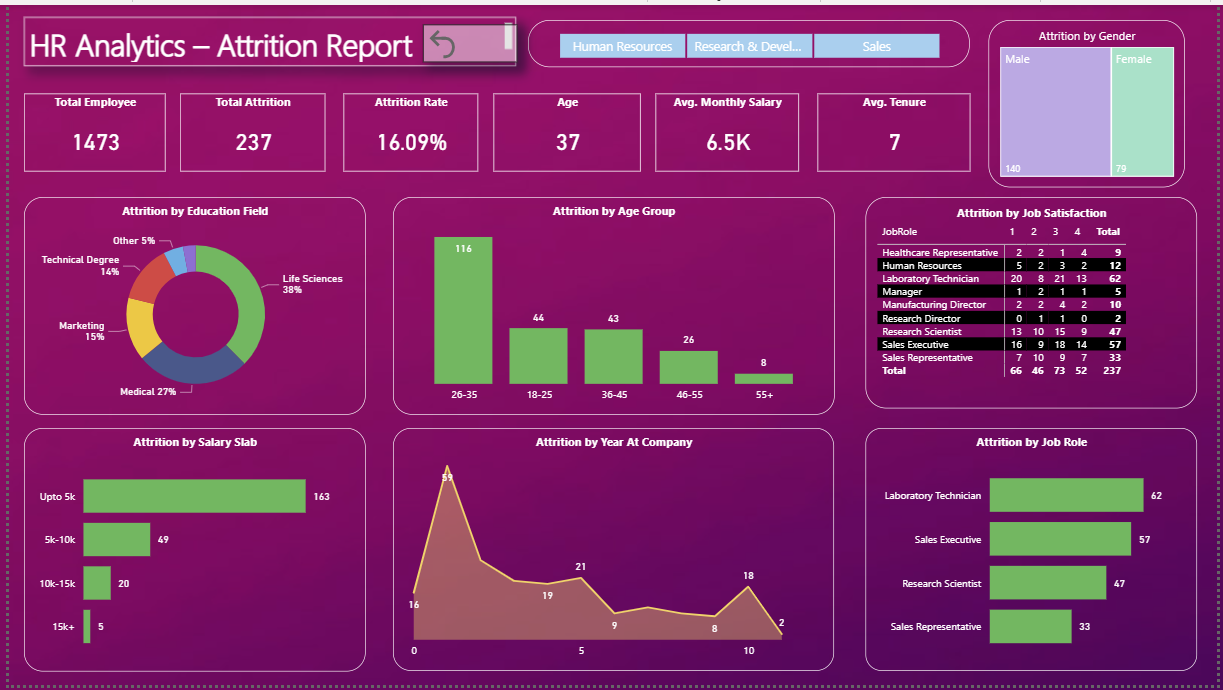

This screenshot's page, from the dashboard's own definition file:
{"tool":"powerbi","page":{"name":"Page 1","canvas":[1280,720],"ordinal":0},"visuals":[{"type":"card","title":"Total Employee","fields":{"Values":["Sum(HR_Analytics.EmployeeCount)"]},"box":[15.4,94.3,150.1,82.8],"z":0},{"type":"card","title":"Attrition","fields":{"Values":["Sum(HR_Analytics.Attration Count)"]},"box":[180.9,94.3,154,82.8],"z":1000},{"type":"card","title":"Age","fields":{"Values":["Avg(HR_Analytics.Age)"]},"box":[513.9,94.3,155.9,82.8],"z":2000},{"type":"card","title":"Attrition Rate","fields":{"Values":["HR_Analytics.Attrition Rate"]},"box":[354.2,94.3,142.4,82.8],"z":3000},{"type":"card","title":"Avg. Monthly Salary","fields":{"Values":["Avg(HR_Analytics.MonthlyIncome)"]},"box":[685.2,94.3,152.1,82.8],"z":4000},{"type":"card","title":"Avg. Monthly Salary","fields":{"Values":["Avg(HR_Analytics.YearsAtCompany)"]},"box":[856.5,94.3,161.7,82.8],"z":5000},{"type":"donutChart","title":"Attrition by Education Field","fields":{"Category":["HR_Analytics.EducationField"],"Y":["Sum(HR_Analytics.Attration Count)"]},"box":[15.4,204,361.9,231],"z":6000},{"type":"columnChart","title":"Attrition by Age","fields":{"Category":["HR_Analytics.AgeGroup"],"Y":["Sum(HR_Analytics.Attration Count)"]},"box":[406.1,204,467.7,231],"z":7000},{"type":"pivotTable","title":"Attrition by Job Satisfaction","fields":{"Rows":["HR_Analytics.JobRole"],"Columns":["HR_Analytics.JobSatisfaction"],"Values":["Sum(HR_Analytics.Attration Count)"]},"box":[907.5,203.4,351.3,224.1],"z":8000},{"type":"barChart","title":"Attrition by Job Role","fields":{"Category":["HR_Analytics.JobRole"],"Y":["Sum(HR_Analytics.Attration Count)"]},"box":[907.5,448.2,351.3,257.5],"z":9000},{"type":"barChart","title":"Attrition by Salary Slab","fields":{"Y":["Sum(HR_Analytics.Attration Count)"],"Category":["HR_Analytics.SalarySlab"]},"box":[15.4,448.5,361.9,257.9],"z":10000},{"type":"areaChart","title":"Attrition by Year At Company","fields":{"Category":["HR_Analytics.YearsAtCompany"],"Y":["Sum(HR_Analytics.Attration Count)"]},"box":[406.9,448.2,467.3,257.5],"z":11000},{"type":"treemap","title":"Attrition by Gender","fields":{"Group":["HR_Analytics.Gender"],"Values":["Sum(HR_Analytics.Attration Count)"]},"box":[1037.5,15.4,207.9,177.1],"z":12000},{"type":"slicer","fields":{"Values":["HR_Analytics.Department"]},"box":[550.5,15.4,467.7,50],"z":13000},{"type":"textbox","box":[15.4,13.5,521.6,52],"z":14000},{"type":"actionButton","box":[438,20,100,40],"z":14001}]}

Visuals, with their boxes in screenshot pixels (x1, y1, x2, y2), scaled from the page's 1280x720 canvas onto the 1223x690 screenshot:
"Total Employee" card: rect(15, 90, 158, 170)
"Attrition" card: rect(173, 90, 320, 170)
"Age" card: rect(491, 90, 640, 170)
"Attrition Rate" card: rect(338, 90, 474, 170)
"Avg. Monthly Salary" card: rect(655, 90, 800, 170)
"Avg. Monthly Salary" card: rect(818, 90, 973, 170)
"Attrition by Education Field" donutChart: rect(15, 196, 360, 417)
"Attrition by Age" columnChart: rect(388, 196, 835, 417)
"Attrition by Job Satisfaction" pivotTable: rect(867, 195, 1203, 410)
"Attrition by Job Role" barChart: rect(867, 430, 1203, 676)
"Attrition by Salary Slab" barChart: rect(15, 430, 360, 677)
"Attrition by Year At Company" areaChart: rect(389, 430, 835, 676)
"Attrition by Gender" treemap: rect(991, 15, 1190, 184)
slicer - HR_Analytics.Department: rect(526, 15, 973, 63)
textbox: rect(15, 13, 513, 63)
actionButton: rect(418, 19, 514, 58)
